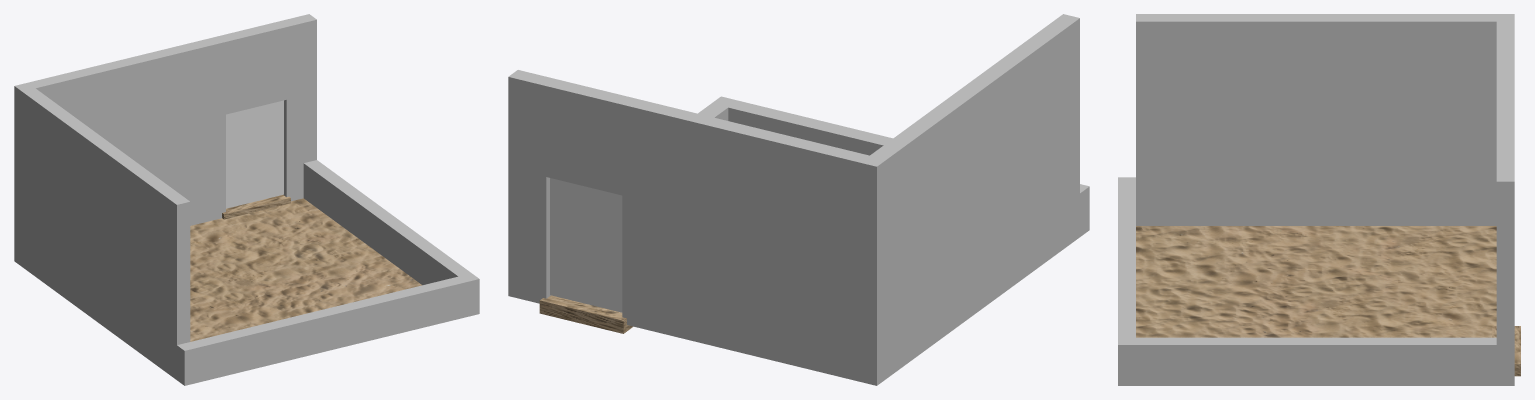
The model's file is cell.fbx.
The picture shows the model from 3 angles, left to right: view 1: azimuth 30°, elevation 25°; view 2: azimuth 150°, elevation 25°; view 3: azimuth 270°, elevation 25°; orthographic projection. The views are drawn at different scales.
Parts seen in each view (by area): view 1: OriginalCube.002, OriginalCube.004, Plane, OriginalCube.003, OriginalCube.005, Cube.001; view 2: OriginalCube.004, OriginalCube.002, Cube.001, OriginalCube.003, Plane; view 3: OriginalCube.002, Plane, OriginalCube.005, OriginalCube.004, OriginalCube.003.
Boxes of the visible parts, x1=… form: OriginalCube.002: x1=22, y1=88, x2=190, y2=379; OriginalCube.004: x1=14, y1=14, x2=316, y2=266; Plane: x1=190, y1=195, x2=421, y2=341; OriginalCube.003: x1=177, y1=273, x2=479, y2=385; OriginalCube.005: x1=303, y1=160, x2=471, y2=285; Cube.001: x1=226, y1=100, x2=283, y2=208; OriginalCube.004: x1=508, y1=70, x2=886, y2=385; OriginalCube.002: x1=870, y1=14, x2=1079, y2=378; Cube.001: x1=550, y1=178, x2=622, y2=312; OriginalCube.003: x1=711, y1=96, x2=1089, y2=236; Plane: x1=539, y1=295, x2=632, y2=333; OriginalCube.002: x1=1136, y1=14, x2=1496, y2=225; Plane: x1=1136, y1=226, x2=1520, y2=376; OriginalCube.005: x1=1136, y1=337, x2=1496, y2=385; OriginalCube.004: x1=1496, y1=14, x2=1514, y2=385; OriginalCube.003: x1=1118, y1=177, x2=1135, y2=385.
Size of the model in its own units: 1760 by 1030 by 1787.
